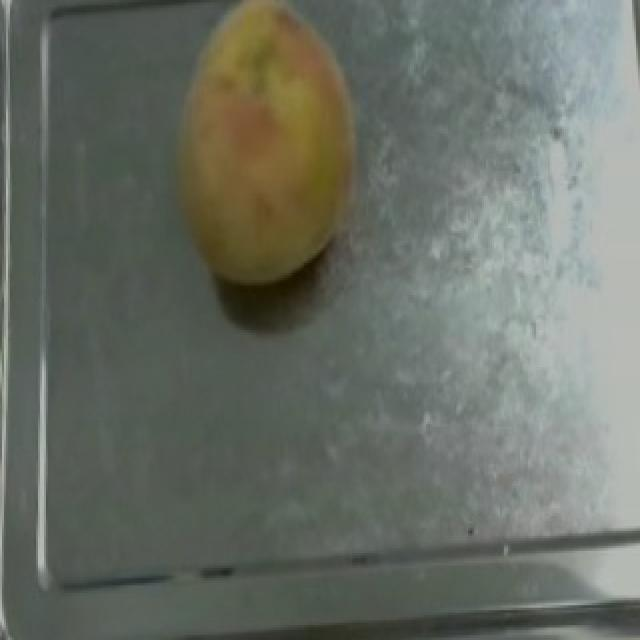Fruit: (158, 0, 382, 295)
